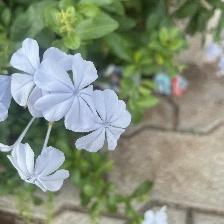chitrak: (71, 87, 133, 158), (37, 62, 104, 126), (11, 144, 72, 194)
